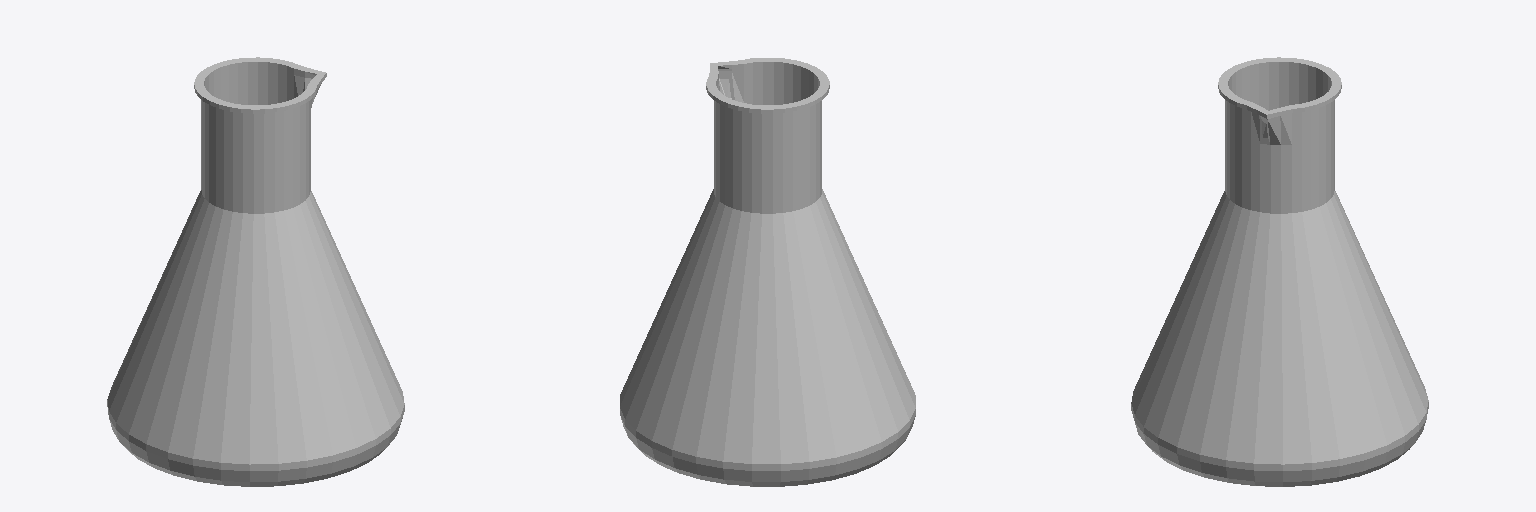
Rendered from tubo7.obj.
3 renders of one model, left to right at view 1: azimuth 30°, elevation 25°; view 2: azimuth 150°, elevation 25°; view 3: azimuth 270°, elevation 25°, orthographic.
Parts seen in each view (by area): view 1: erlenmayer_turbosquid__1_:Mesh; view 2: erlenmayer_turbosquid__1_:Mesh; view 3: erlenmayer_turbosquid__1_:Mesh.
Part boxes in pixels (x1,y1,x2,y2): erlenmayer_turbosquid__1_:Mesh: (107, 57, 404, 486); erlenmayer_turbosquid__1_:Mesh: (620, 58, 915, 486); erlenmayer_turbosquid__1_:Mesh: (1131, 57, 1428, 486).
Size of the model in its own units: 0.2232 by 0.2855 by 0.2232.